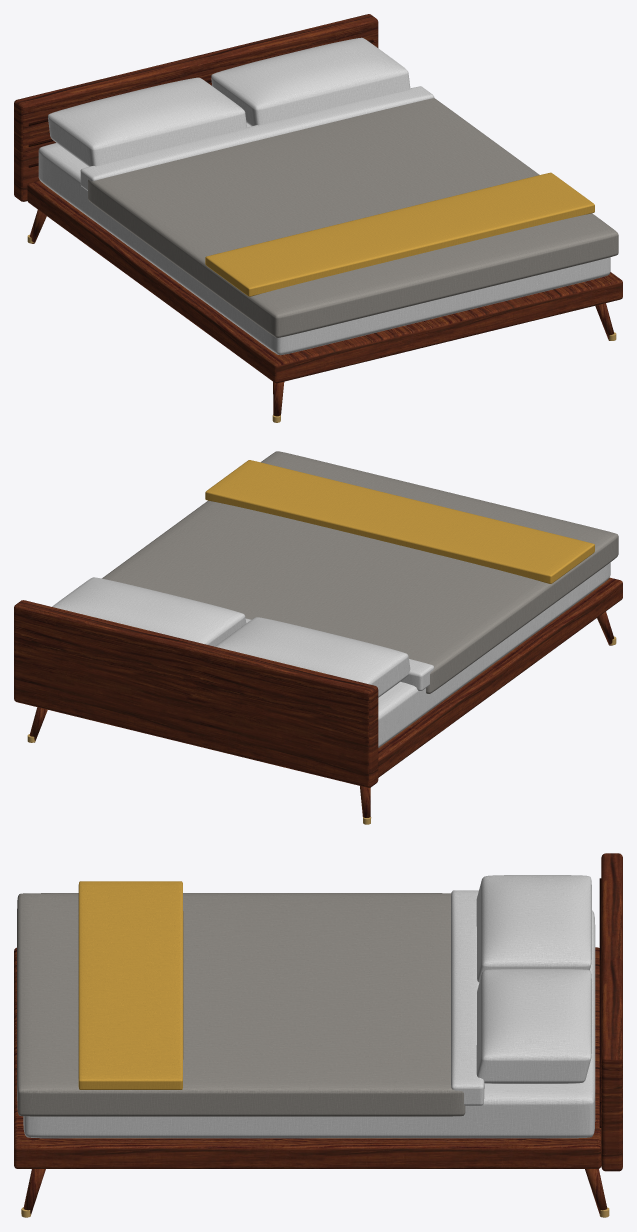
The picture shows the model from 3 angles, top to bottom: view 1: azimuth 30°, elevation 25°; view 2: azimuth 150°, elevation 25°; view 3: azimuth 270°, elevation 25°; orthographic projection. The views are drawn at different scales.
Parts seen in each view (by area): view 1: Duvet, Folded throw, Walnut frame, Mattress, Pillow 1, Pillow 2, Headboard, Turned-down sheet; view 2: Duvet, Headboard, Folded throw, Walnut frame, Pillow 1, Pillow 2, Mattress, Turned-down sheet; view 3: Duvet, Folded throw, Walnut frame, Mattress, Pillow 2, Pillow 1, Headboard, Turned-down sheet, Headboard reveal 3, Tapered leg RF, Tapered leg RB.
Part boxes in pixels (x1,y1,x2,y2): Duvet: (88, 98, 618, 337); Folded throw: (205, 172, 594, 296); Walnut frame: (27, 180, 622, 383); Mattress: (38, 123, 610, 355); Pillow 1: (48, 77, 246, 166); Pillow 2: (211, 37, 410, 126); Headboard: (14, 14, 378, 201); Turned-down sheet: (80, 86, 434, 190); Duvet: (102, 451, 618, 693); Headboard: (14, 600, 378, 787); Folded throw: (205, 460, 594, 583); Walnut frame: (378, 577, 622, 777); Pillow 1: (215, 617, 410, 697); Pillow 2: (52, 577, 246, 646); Mattress: (378, 562, 610, 747); Turned-down sheet: (245, 618, 434, 691); Duvet: (17, 893, 465, 1116); Folded throw: (78, 881, 183, 1089); Walnut frame: (14, 947, 601, 1168); Mattress: (23, 910, 595, 1138); Pillow 2: (476, 969, 591, 1083); Pillow 1: (476, 875, 591, 982); Headboard: (601, 853, 622, 1171); Turned-down sheet: (451, 890, 484, 1105); Headboard reveal 3: (599, 878, 601, 1078); Tapered leg RF: (23, 1169, 45, 1214); Tapered leg RB: (585, 1169, 607, 1214).
Size of the model in its own units: 1.6 by 0.6 by 2.
6 materials, 5 textured.
